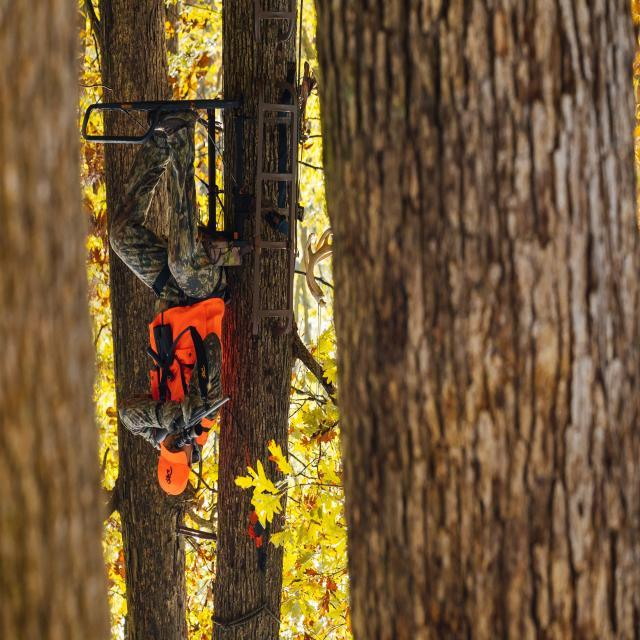Boots: (152, 113, 197, 135)
Gloves: (157, 401, 183, 430), (180, 395, 206, 422)
Vest: (148, 295, 226, 405)
